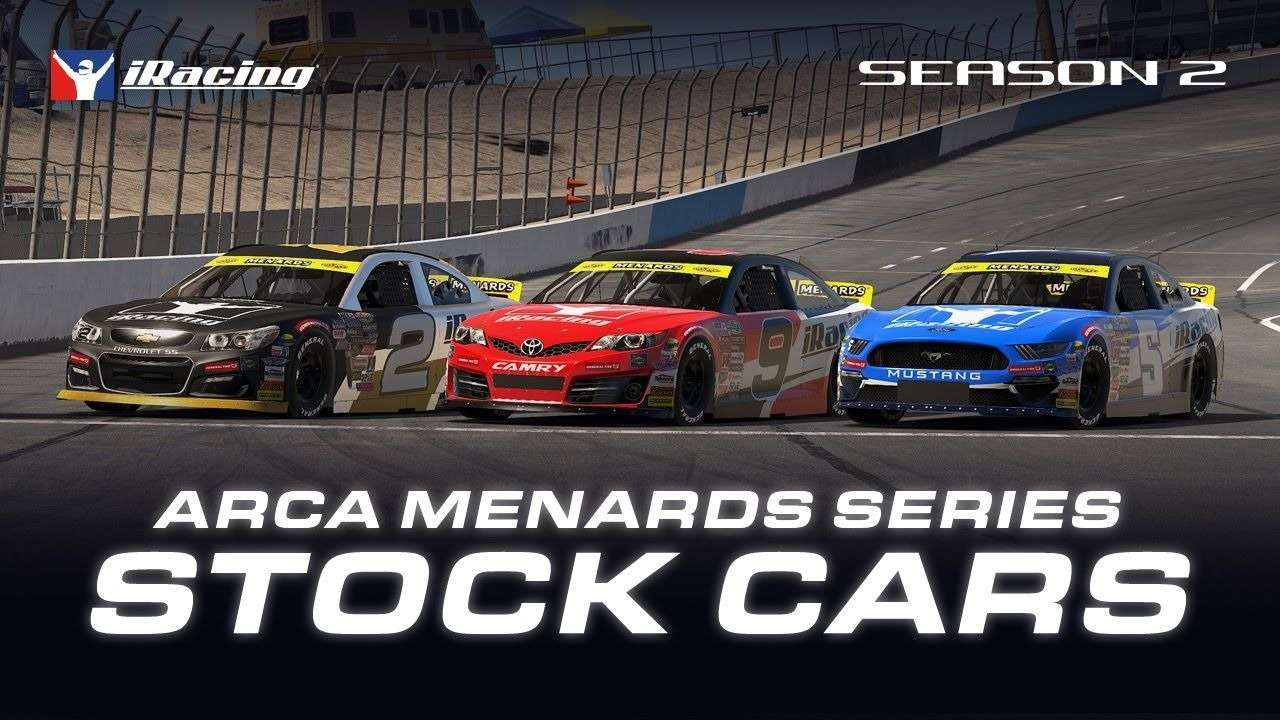other: (54, 227, 518, 443), (471, 236, 875, 438), (827, 244, 1227, 433)
